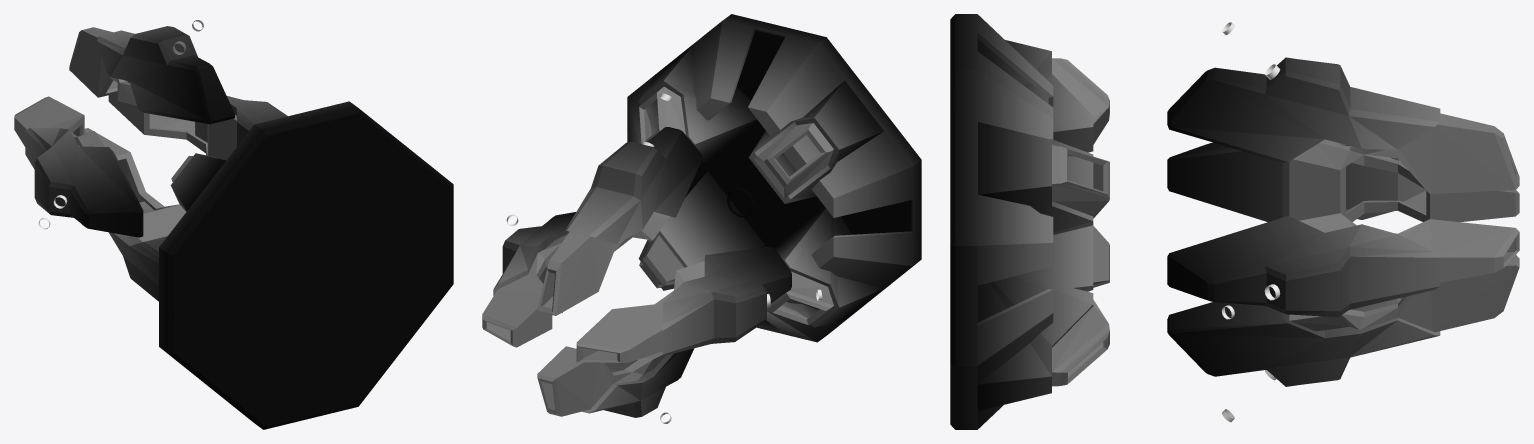
File: Leg_XinBiao_24X32_off.FBX
The picture shows the model from 3 angles, left to right: view 1: azimuth 30°, elevation 25°; view 2: azimuth 150°, elevation 25°; view 3: azimuth 270°, elevation 25°; orthographic projection. The views are drawn at different scales.
Visible parts, largest first — view 1: Box001; view 2: Box001; view 3: Box001.
Part boxes in pixels (box(x1,y1,x2,y2)): Box001: box(14, 20, 453, 429); Box001: box(482, 14, 921, 423); Box001: box(950, 14, 1519, 429).
Size of the model in its own units: 27.45 by 27.45 by 34.39.
